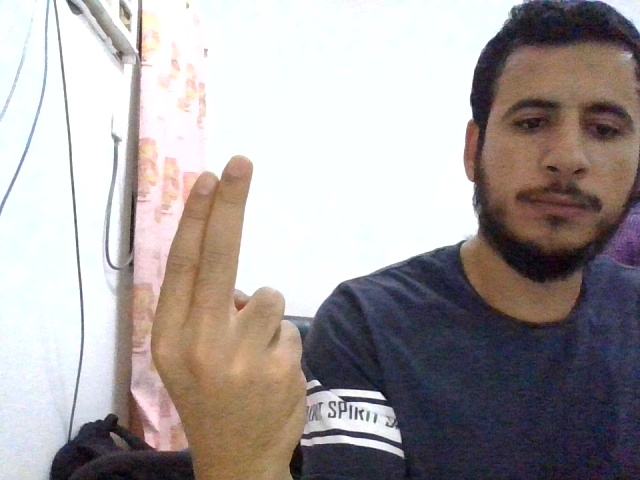Two: (150, 155, 306, 449)
